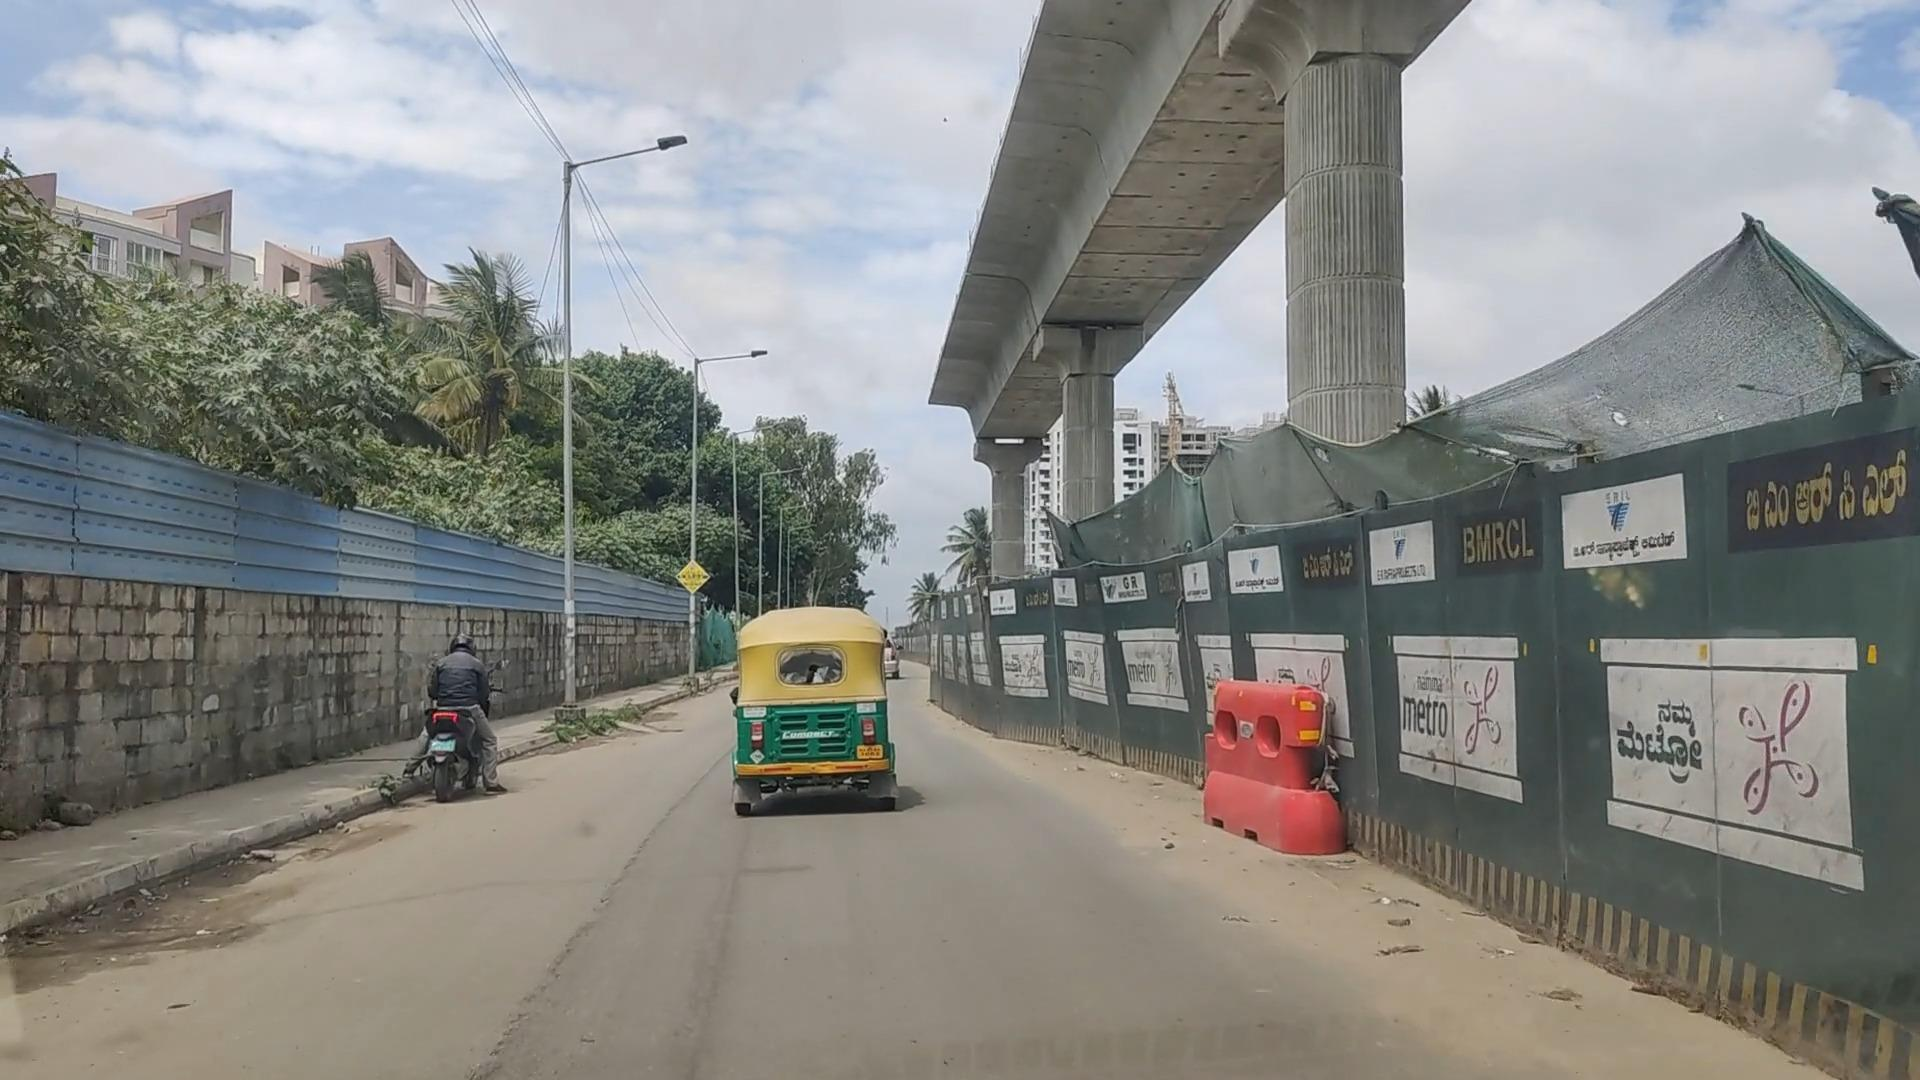LMV: (717, 588, 895, 844), (400, 612, 512, 820)
